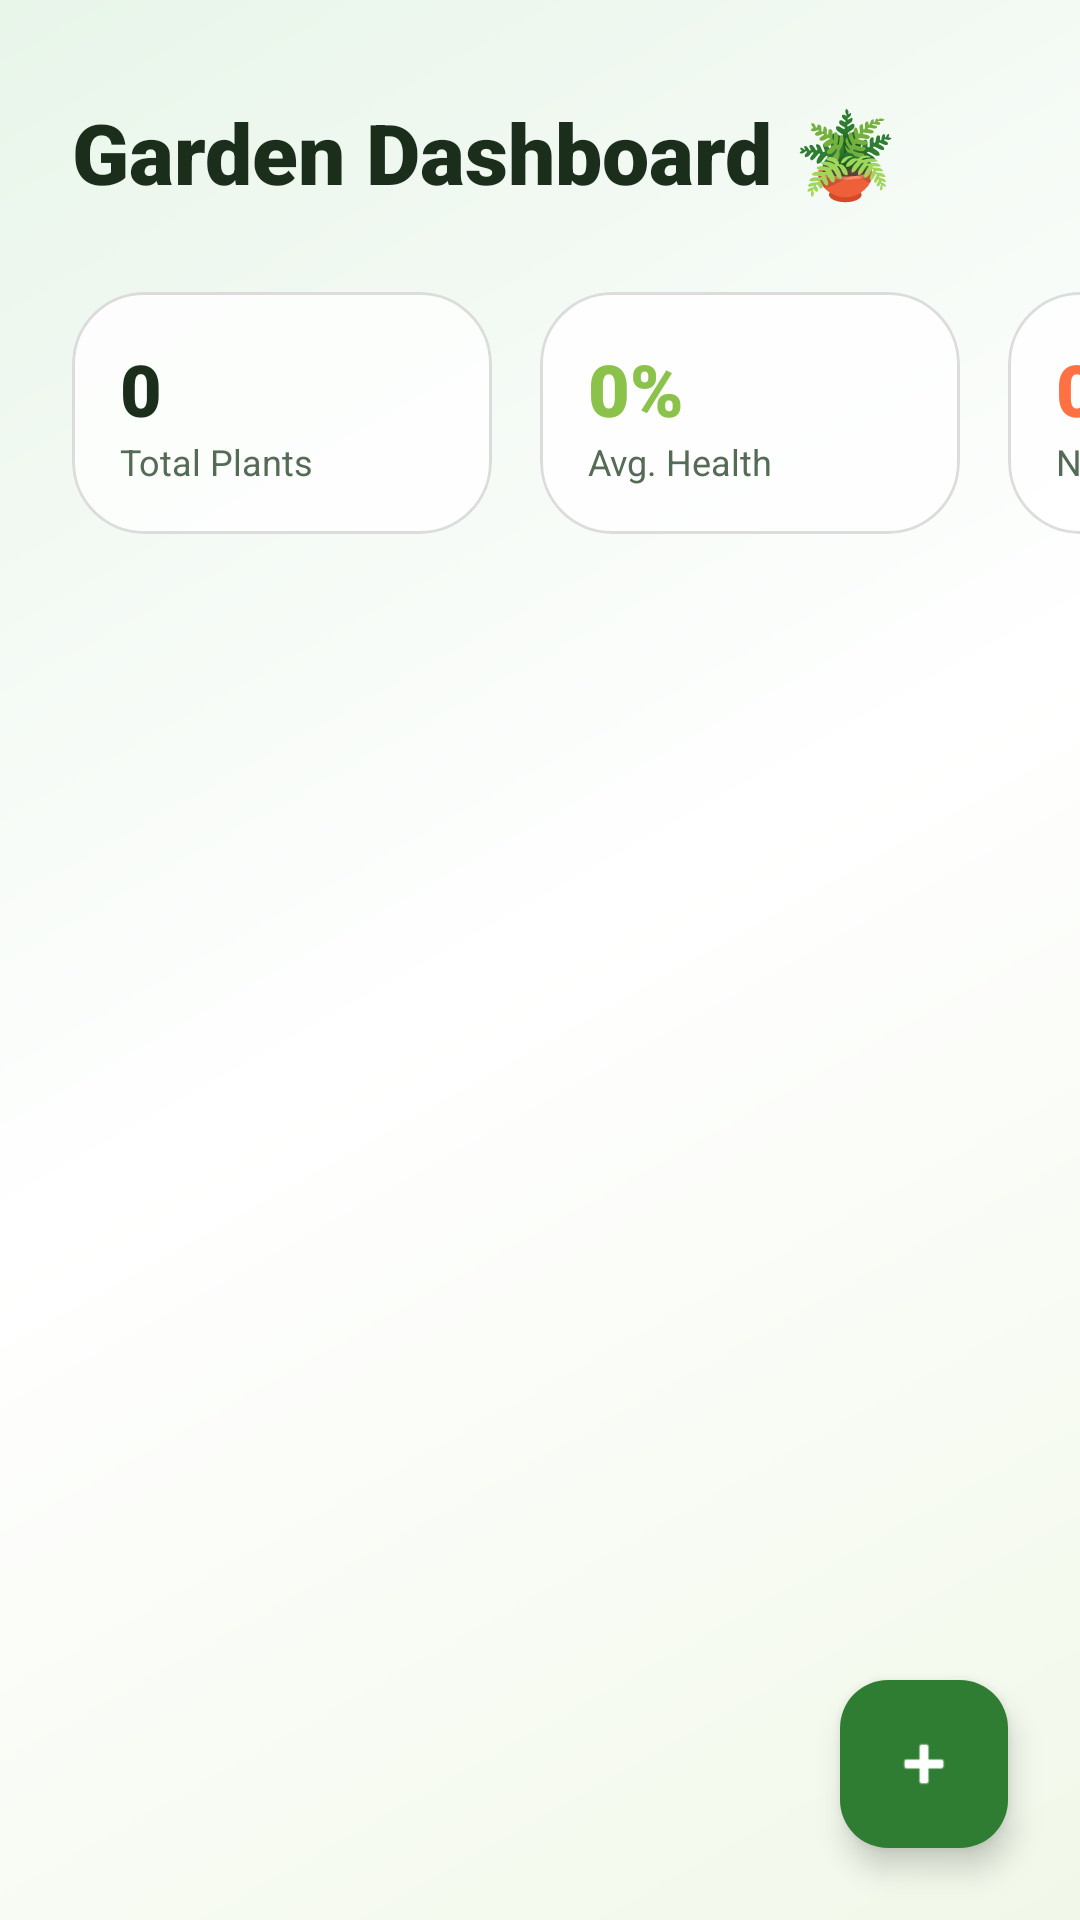

Locate icon controls on the screen. Image size 1080px x 1920px, boxes as (x1, y1, x2, y2).
Add Plant: (840, 1680, 1008, 1848)
